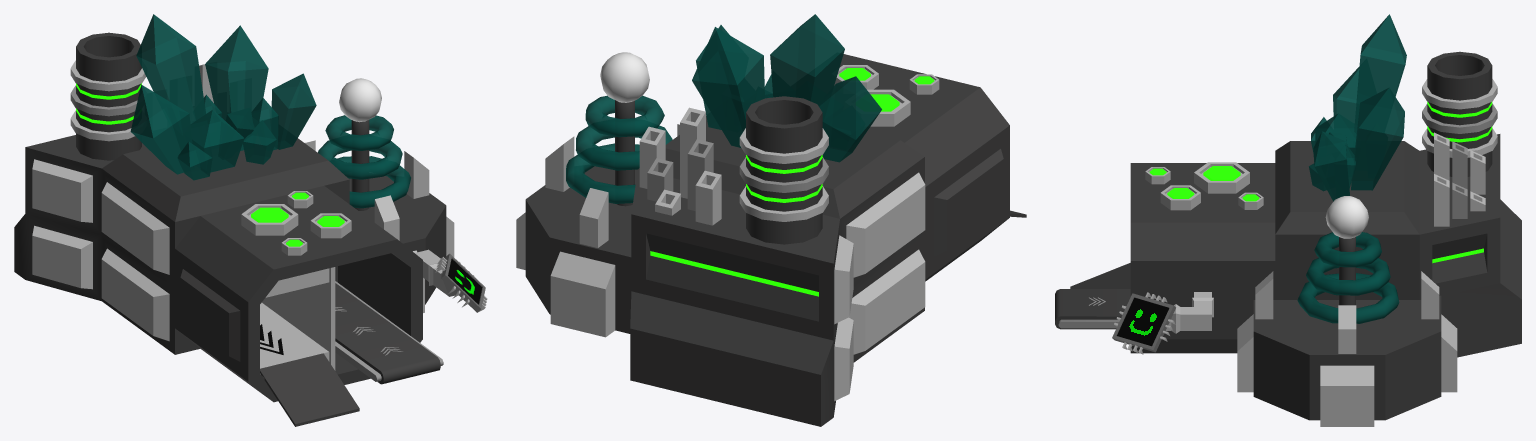
File: Miner_farm.fbx
3 renders of one model, left to right at view 1: azimuth 30°, elevation 25°; view 2: azimuth 150°, elevation 25°; view 3: azimuth 270°, elevation 25°, orthographic. The views are drawn at different scales.
Visible parts, largest first — view 1: Miner_farm; view 2: Miner_farm; view 3: Miner_farm.
Boxes of the visible parts, box(x1,y1,x2,y2) form: Miner_farm: box(14, 14, 487, 426); Miner_farm: box(516, 14, 1026, 426); Miner_farm: box(1055, 14, 1521, 426).
Size of the model in its own units: 21.5 by 17.44 by 25.87.
